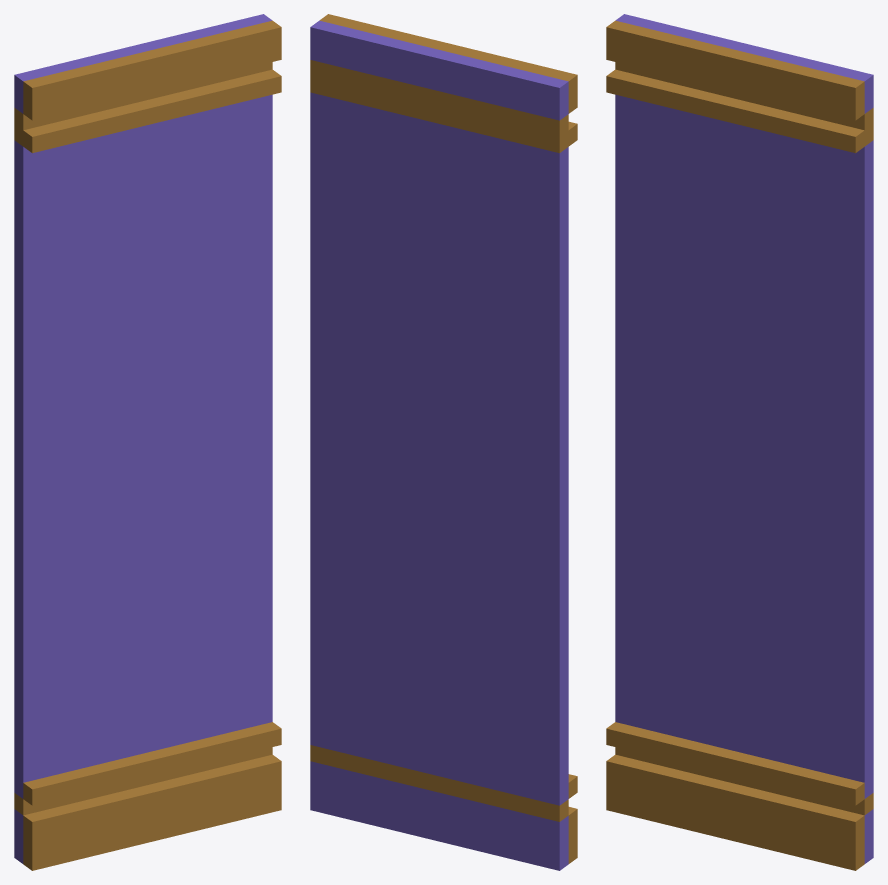
Rendered from Side_A.obj.
3 renders of one model, left to right at view 1: azimuth 30°, elevation 25°; view 2: azimuth 150°, elevation 25°; view 3: azimuth 330°, elevation 25°, orthographic.
Size of the model in its own units: 1.6 by 4.8 by 0.2.
Materials: 1 (1 with a texture image).
